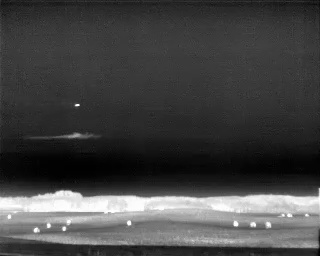BIRD: (73, 101, 82, 109)
